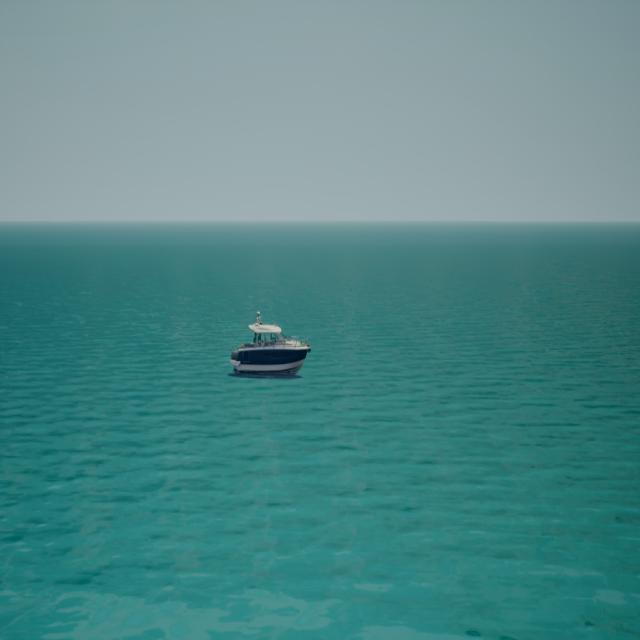ship: (229, 309, 312, 376)
